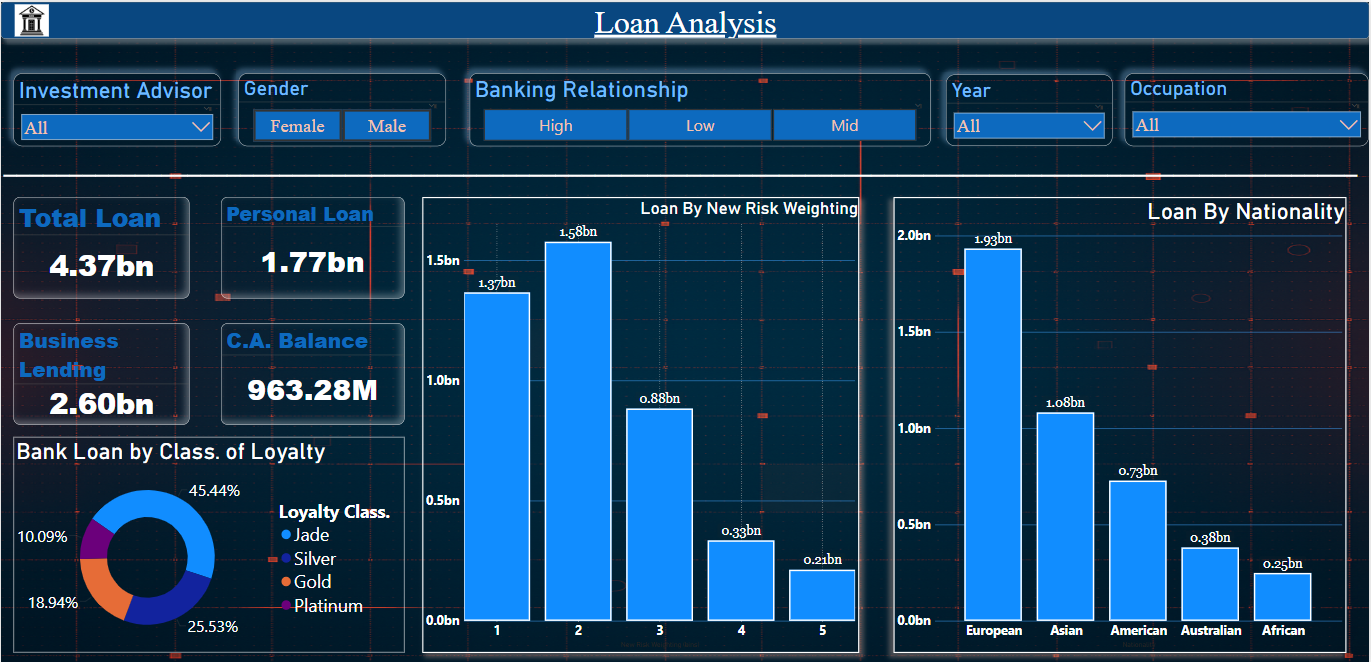

The dashboard page shown, as its layout file describes it:
{"tool":"powerbi","page":{"name":"Loan Analysis","canvas":[2880,1400],"ordinal":1},"visuals":[{"type":"textbox","title":"Loan Analysis","box":[0,0,2880,76.7],"z":0},{"type":"image","box":[0,0,130,77.5],"z":1000},{"type":"slicer","title":"Banking Relationship","fields":{"Values":["Banking_Data_Jup.Fee Structure"]},"box":[986.7,150,970,153.3],"z":2000},{"type":"slicer","title":"Gender","fields":{"Values":["Banking_Data_Jup.Gender"]},"box":[500,150,436.7,153.3],"z":3000},{"type":"slicer","title":"Investment Advisor","fields":{"Values":["Banking_Data_Jup.Investment Advisor"]},"box":[26.7,150,436.7,153.3],"z":4000},{"type":"slicer","title":"Year","fields":{"Values":["Banking_Data_Jup.year of joining"]},"box":[1990,153.3,350,150],"z":5000},{"type":"textbox","title":"__________________________________________________________________________________________________________________","box":[0,303.3,2880,80],"z":6000},{"type":"card","title":"Total Loan","fields":{"Values":["Sum(Banking_Data_Jup.Total Loan)"]},"box":[26.7,410,370,213.3],"z":7000},{"type":"card","title":"Personal Loan","fields":{"Values":["Sum(Banking_Data_Jup.Bank Loans)"]},"box":[463.3,410,386.7,213.3],"z":8000},{"type":"card","title":"Business Lending","fields":{"Values":["Sum(Banking_Data_Jup.Business Lending)"]},"box":[26.7,676.7,370,213.3],"z":9000},{"type":"card","title":"C.A. Balance","fields":{"Values":["Sum(Banking_Data_Jup.Checking Accounts)"]},"box":[463.3,676.7,386.7,213.3],"z":10000},{"type":"donutChart","title":"Bank Loan by Class. of Loyalty ","fields":{"Y":["Sum(Banking_Data_Jup.Bank Loans)"],"Category":["Banking_Data_Jup.Loyalty Classification"]},"box":[26.7,916.7,823.3,453.3],"z":11000},{"type":"columnChart","title":"Loan By New Risk Weighting","fields":{"Y":["Sum(Banking_Data_Jup.Total Loan)"],"Category":["Banking_Data_Jup.New Risk Weighting (bins)"]},"box":[886.7,410,920,960],"z":12000},{"type":"columnChart","title":"Loan By Nationality ","fields":{"Y":["Sum(Banking_Data_Jup.Total Loan)"],"Category":["Banking_Data_Jup.Nationality"]},"box":[1880,410,953.3,960],"z":13000},{"type":"slicer","title":"Occupation","fields":{"Values":["Banking_Data_Jup.Occupation"]},"box":[2366.7,150,513.3,153.3],"z":14000}]}

Visuals, with their boxes in screenshot pixels (x1, y1, x2, y2), scaled from the page's 2880x1400 canvas onto the 1371x662 screenshot:
"Loan Analysis" textbox: <box>0,0,1370,36</box>
image: <box>0,0,62,37</box>
"Banking Relationship" slicer: <box>470,71,931,143</box>
"Gender" slicer: <box>238,71,446,143</box>
"Investment Advisor" slicer: <box>13,71,221,143</box>
"Year" slicer: <box>947,72,1114,143</box>
"__________________________________________________________________________________________________________________" textbox: <box>0,143,1370,181</box>
"Total Loan" card: <box>13,194,189,295</box>
"Personal Loan" card: <box>221,194,405,295</box>
"Business Lending" card: <box>13,320,189,421</box>
"C.A. Balance" card: <box>221,320,405,421</box>
"Bank Loan by Class. of Loyalty " donutChart: <box>13,433,405,648</box>
"Loan By New Risk Weighting" columnChart: <box>422,194,860,648</box>
"Loan By Nationality " columnChart: <box>895,194,1349,648</box>
"Occupation" slicer: <box>1127,71,1370,143</box>
